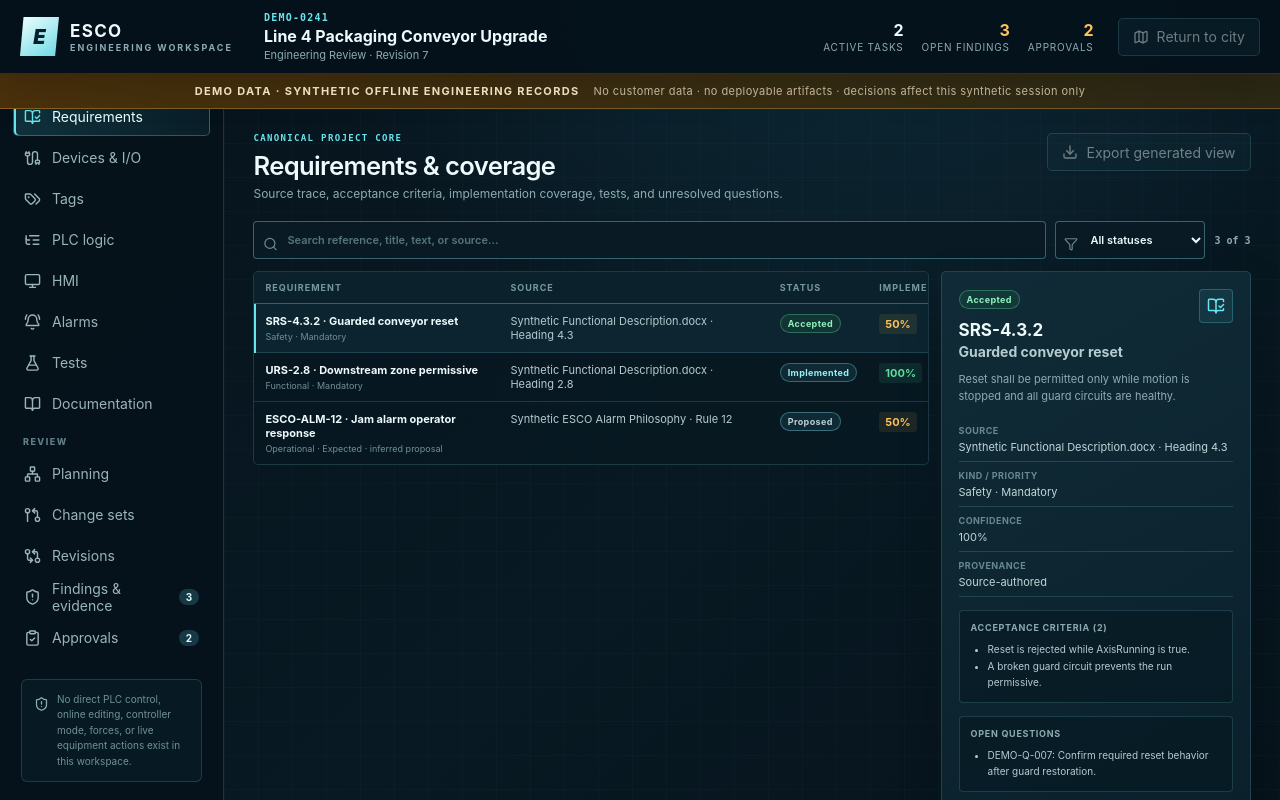
EngineeringWorkspace › labels all synthetic records prominently and supports a local demo approval decision
(page scrolled)
Expected: the text "DEMO DATA · SYNTHETIC OFFLINE ENGINEERING RECORDS" is shown, 195,84 -> 580,98
Click the button "Approvals 2". click: x=112, y=638
box: 13,619 -> 210,657
(page scrolled)
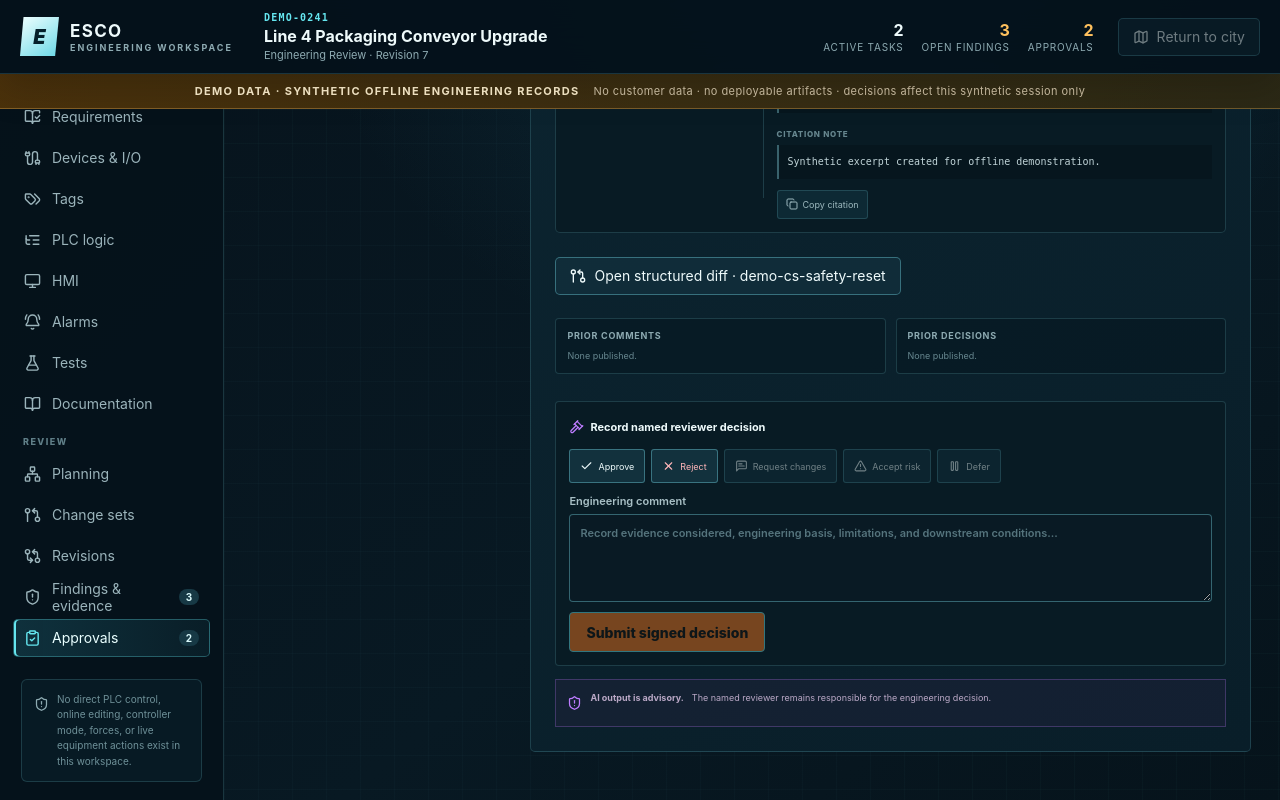
Click the button "Approve". click: x=607, y=466
box: 569,450 -> 645,484
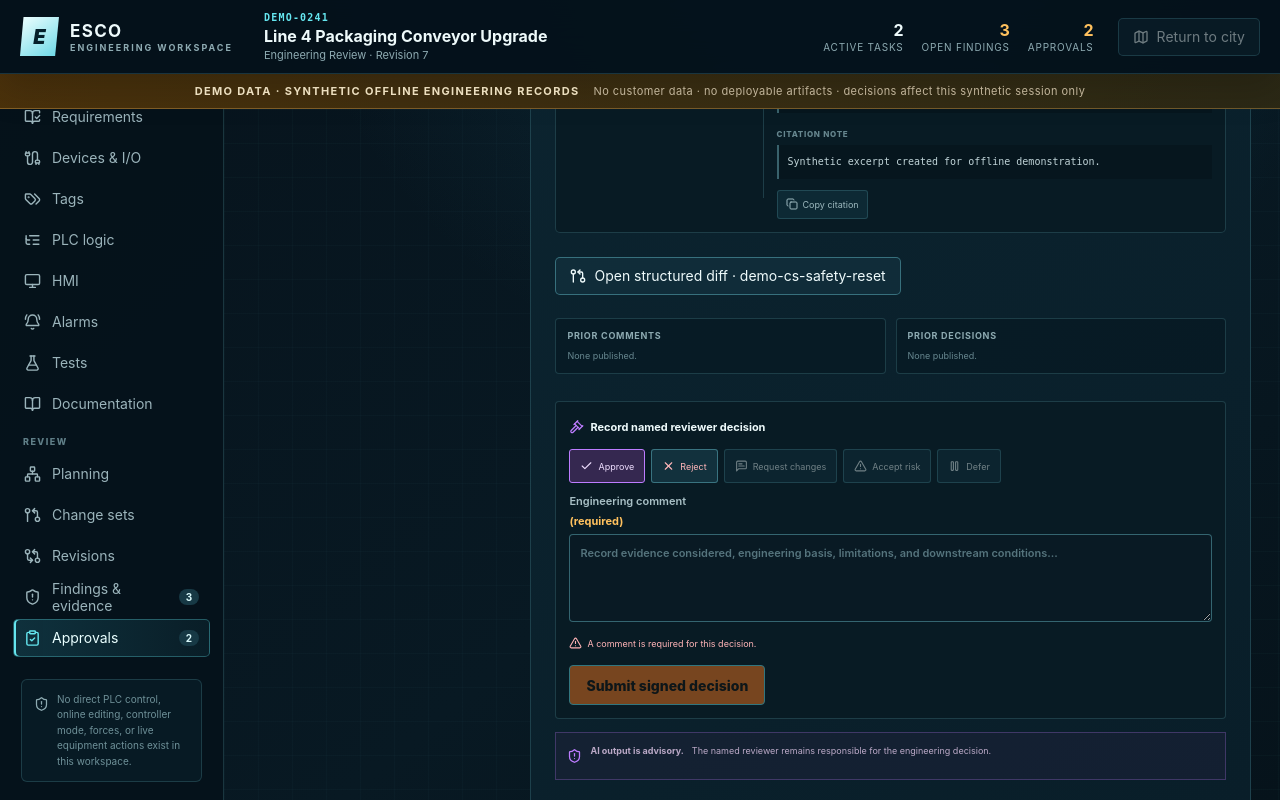
Expected: the text "A comment is required for this decision." is shown, 569,632 -> 756,656
Replace the text in the text box labelled "Engineering comment (required)" with "Synthetic review comment only.". click: x=890, y=578
box: 569,534 -> 1212,622
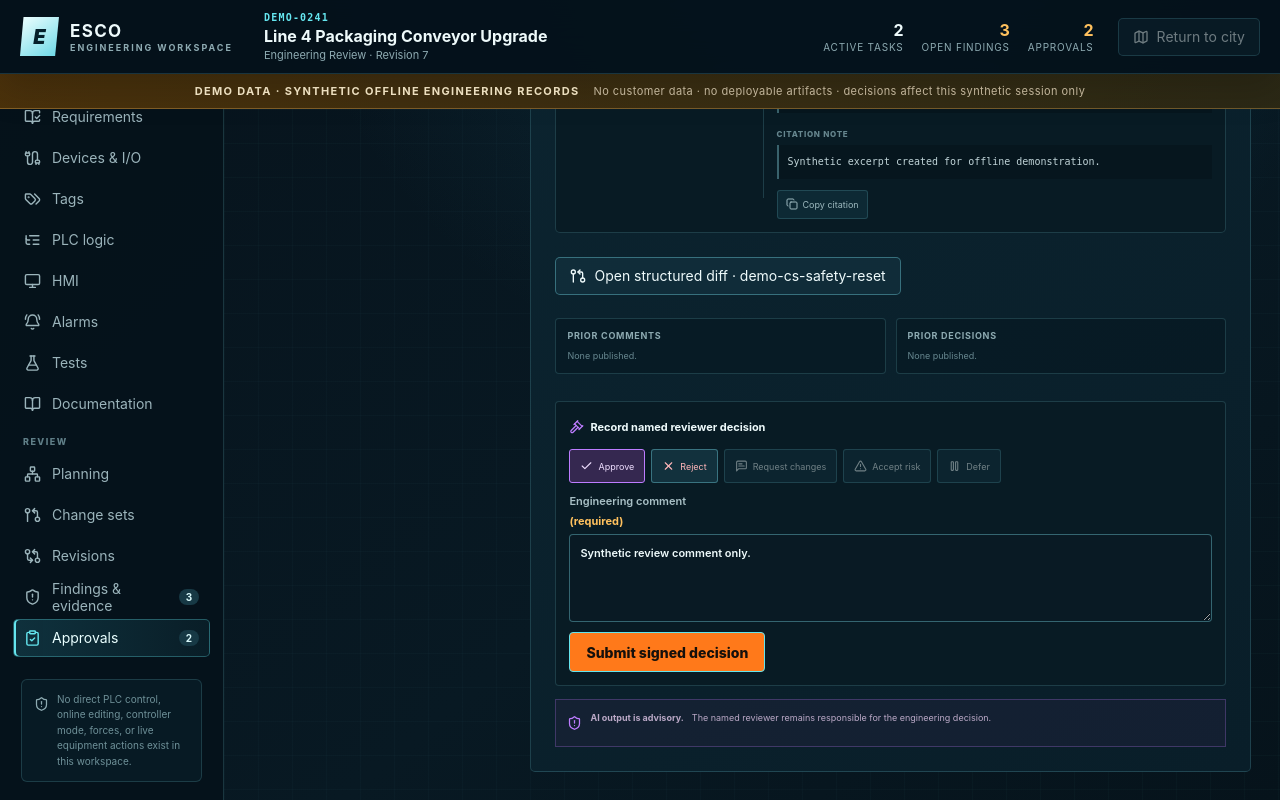
Click the button "Submit signed decision". click: x=667, y=652
box: 569,632 -> 765,672
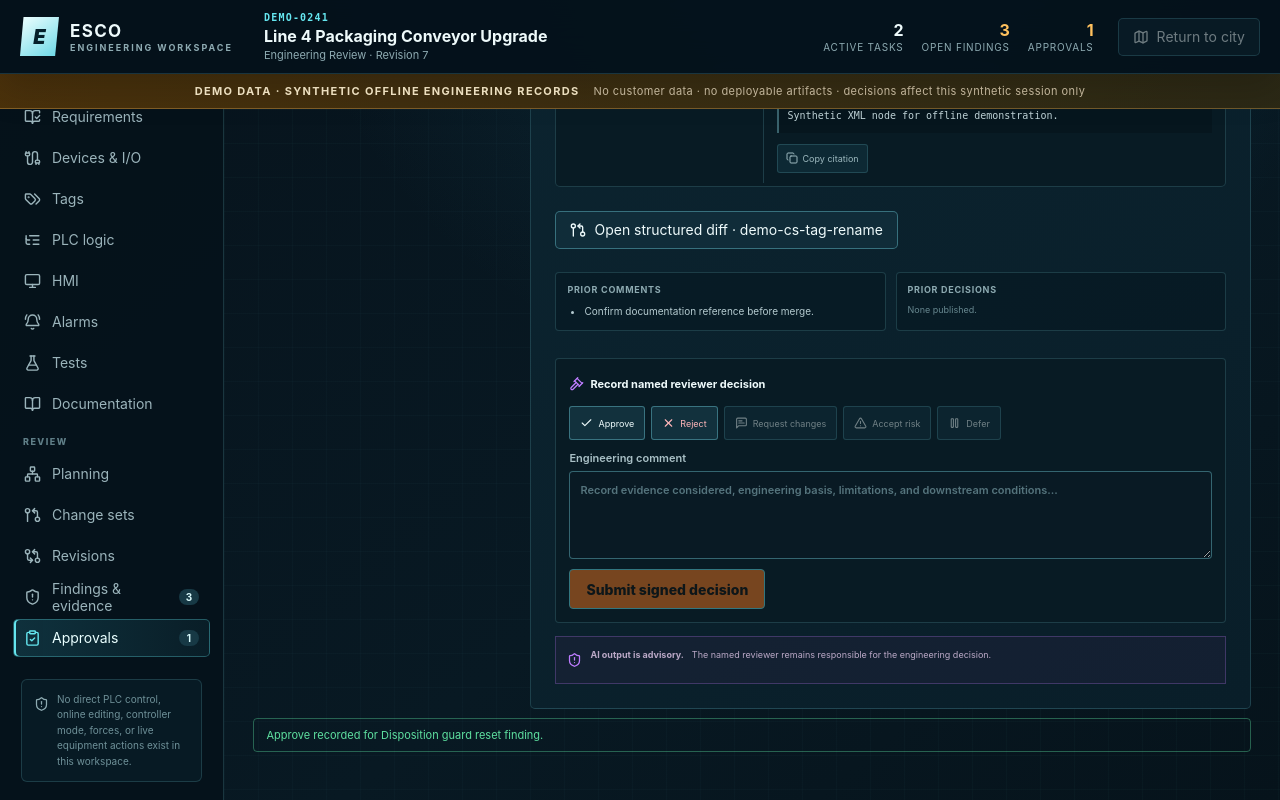
Expected: the text "Approve recorded for Disposition guard reset finding." is shown, 253,718 -> 1250,752
